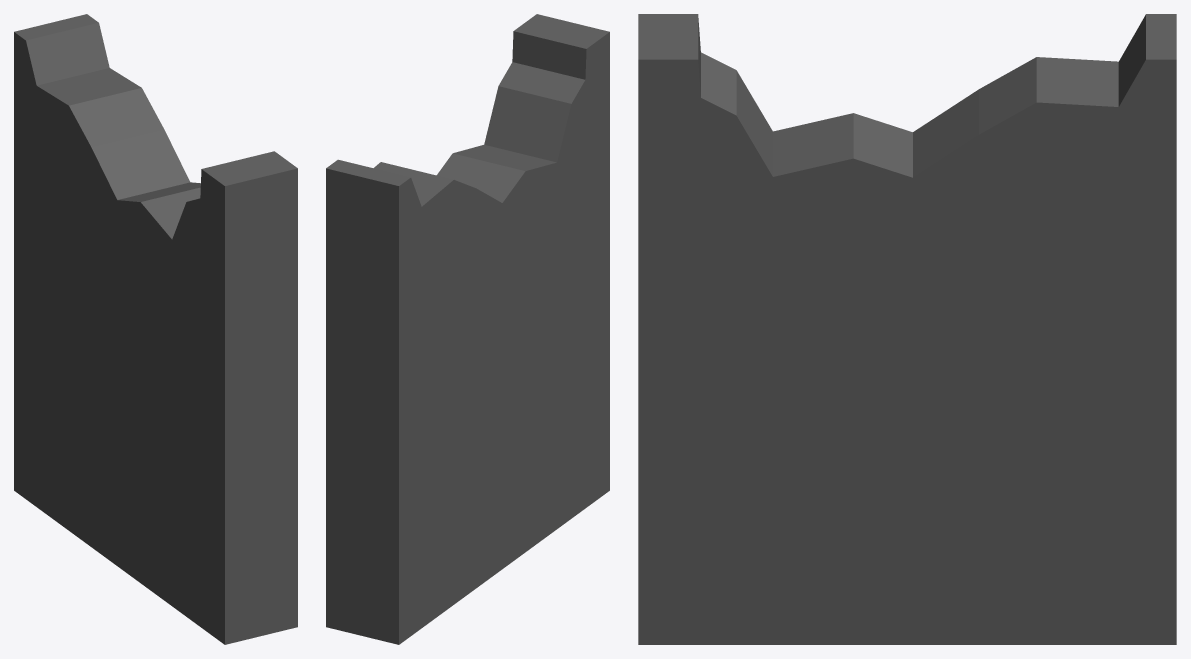
The model's file is Wall_B_2_1.fbx.
3 renders of one model, left to right at view 1: azimuth 30°, elevation 25°; view 2: azimuth 150°, elevation 25°; view 3: azimuth 270°, elevation 25°, orthographic. The views are drawn at different scales.
Parts seen in each view (by area): view 1: Wall_B_2_1; view 2: Wall_B_2_1; view 3: Wall_B_2_1.
Boxes of the visible parts, x1,y1,x2,y2 form: Wall_B_2_1: [14, 14, 297, 644]; Wall_B_2_1: [326, 14, 609, 644]; Wall_B_2_1: [638, 14, 1176, 644].
Bounding box in the file's own units: 40 × 240 × 200.
